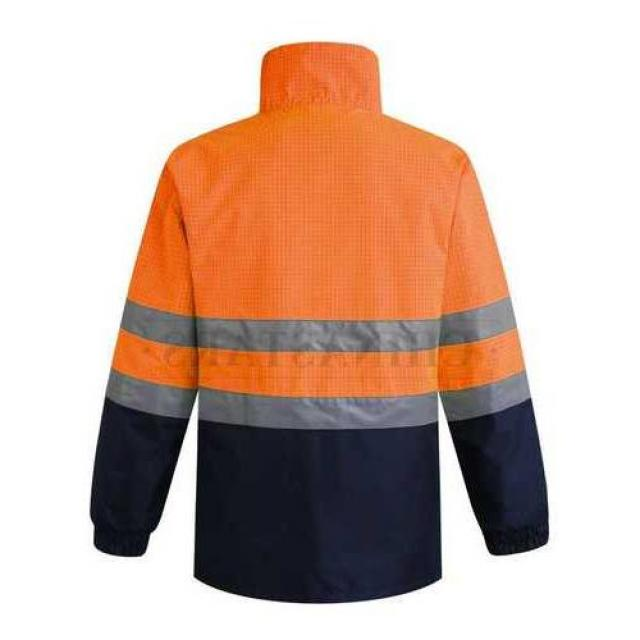Reflective-Jacket: (76, 23, 584, 636)
